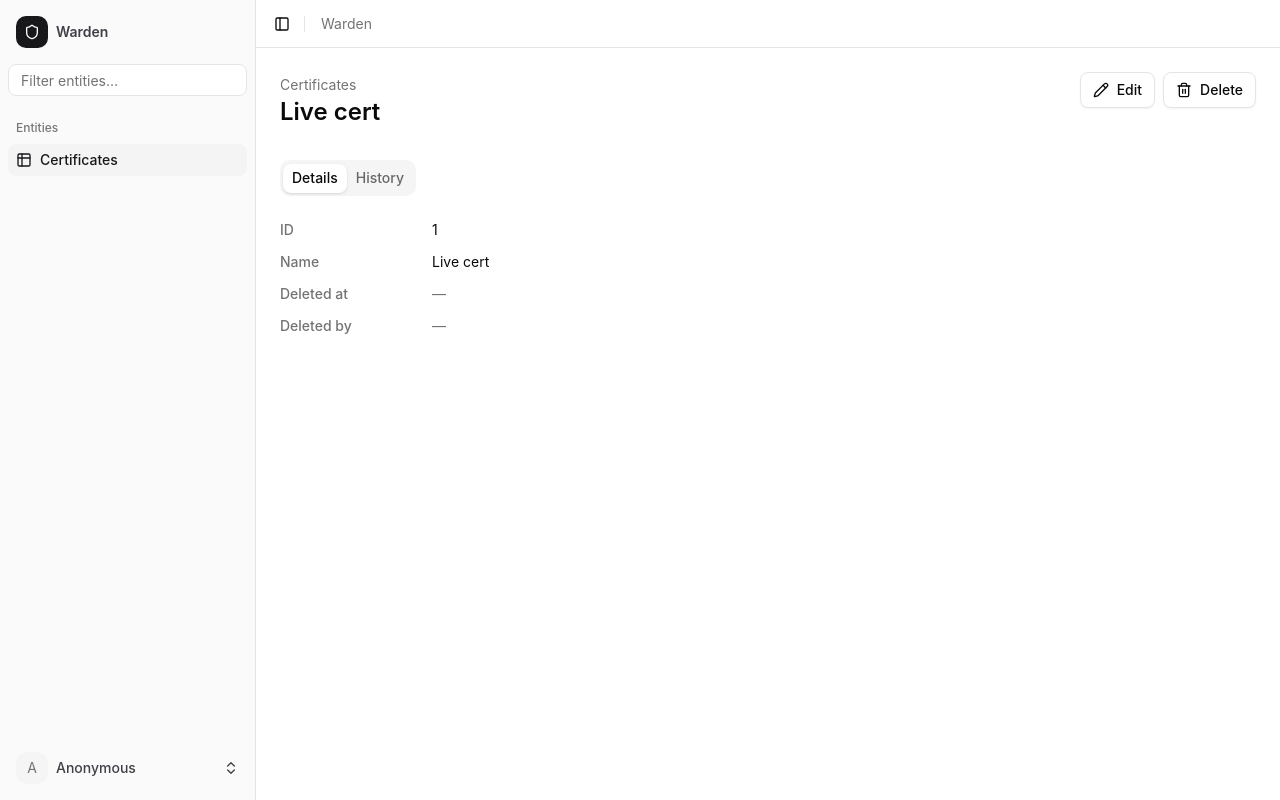
record page of a soft-deleting entity › says a delete can be undone
The image size is (1280, 800).
Click the button "Delete" at (1210, 90), box x1=1163 y1=72 x2=1256 y2=108
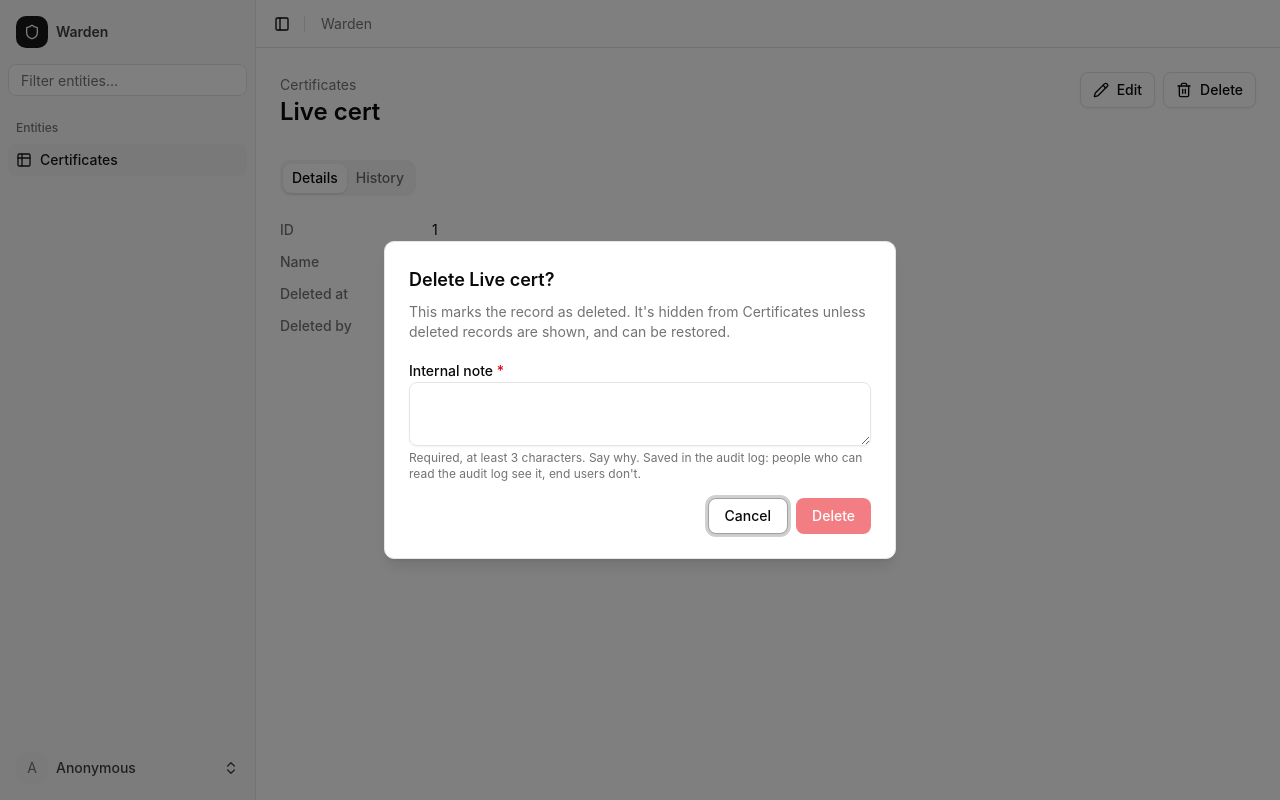
Now the dialog "Delete Live cert?" shows "This marks the record as deleted", box x1=409 y1=303 x2=866 y2=340
Now the dialog "Delete Live cert?" shows "can be restored", box x1=409 y1=303 x2=866 y2=340
